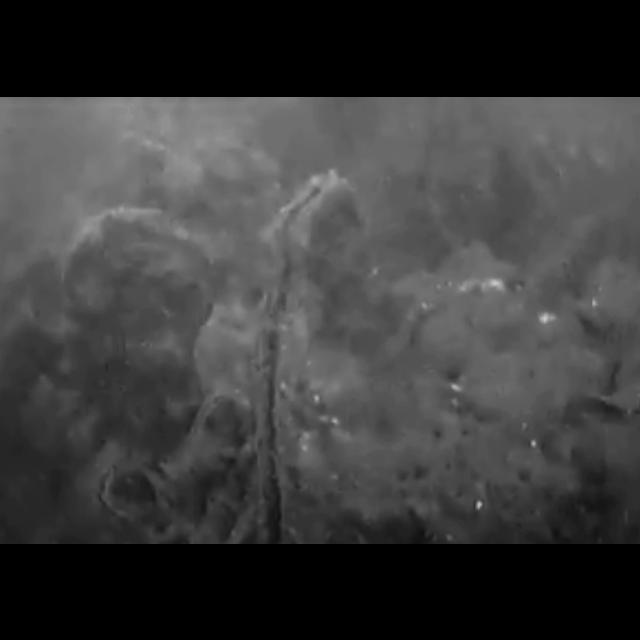Oyster-Closed: (54, 205, 218, 413)
Oyster-Open: (262, 169, 371, 311), (245, 311, 311, 544), (93, 448, 187, 524), (186, 383, 258, 472)
